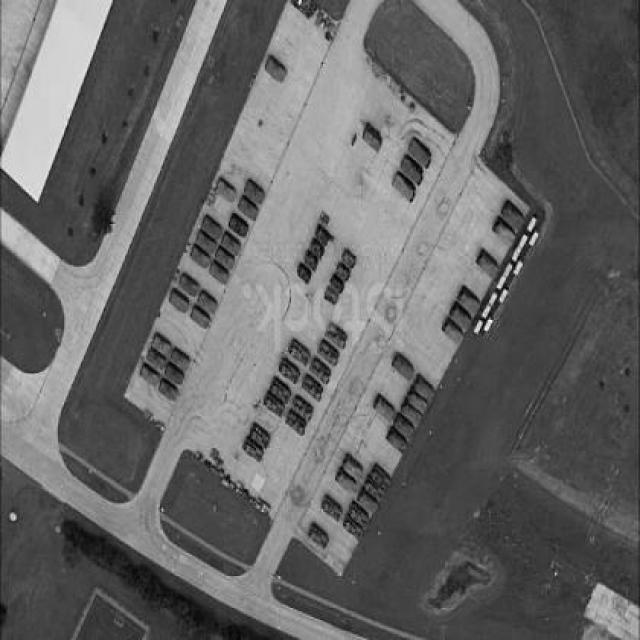tank: (491, 215, 515, 250), (500, 200, 524, 234), (457, 285, 480, 318), (449, 300, 471, 334), (264, 54, 288, 85), (324, 321, 348, 351), (441, 316, 464, 347), (476, 248, 498, 280), (357, 487, 379, 519), (391, 352, 414, 382), (288, 338, 311, 368), (373, 393, 395, 424), (400, 396, 421, 428), (317, 339, 340, 368), (242, 433, 264, 463), (278, 356, 300, 386), (309, 358, 331, 387), (413, 373, 434, 403), (270, 376, 291, 406), (406, 386, 428, 414), (302, 374, 324, 402), (321, 493, 342, 522), (292, 394, 313, 423), (385, 427, 407, 454), (369, 464, 391, 491), (343, 514, 364, 542), (285, 409, 306, 437), (243, 177, 264, 205), (308, 522, 328, 551), (394, 413, 414, 442), (334, 467, 356, 493), (349, 502, 369, 530), (264, 391, 285, 417), (238, 195, 259, 221), (189, 244, 210, 270), (250, 423, 270, 450), (178, 272, 200, 296), (228, 213, 249, 238), (365, 474, 383, 503), (216, 178, 236, 204), (196, 230, 216, 256), (215, 247, 236, 271), (170, 348, 190, 373), (196, 290, 216, 315), (203, 216, 222, 242), (168, 290, 189, 313), (221, 232, 241, 256), (208, 262, 229, 284), (140, 364, 160, 387), (151, 333, 171, 356), (164, 364, 184, 386), (146, 350, 166, 371), (190, 307, 210, 328), (158, 379, 177, 401), (308, 238, 324, 262), (296, 263, 312, 284), (304, 250, 318, 273), (324, 286, 339, 305), (342, 248, 354, 270), (316, 225, 328, 246), (335, 265, 349, 282), (331, 276, 343, 294)
